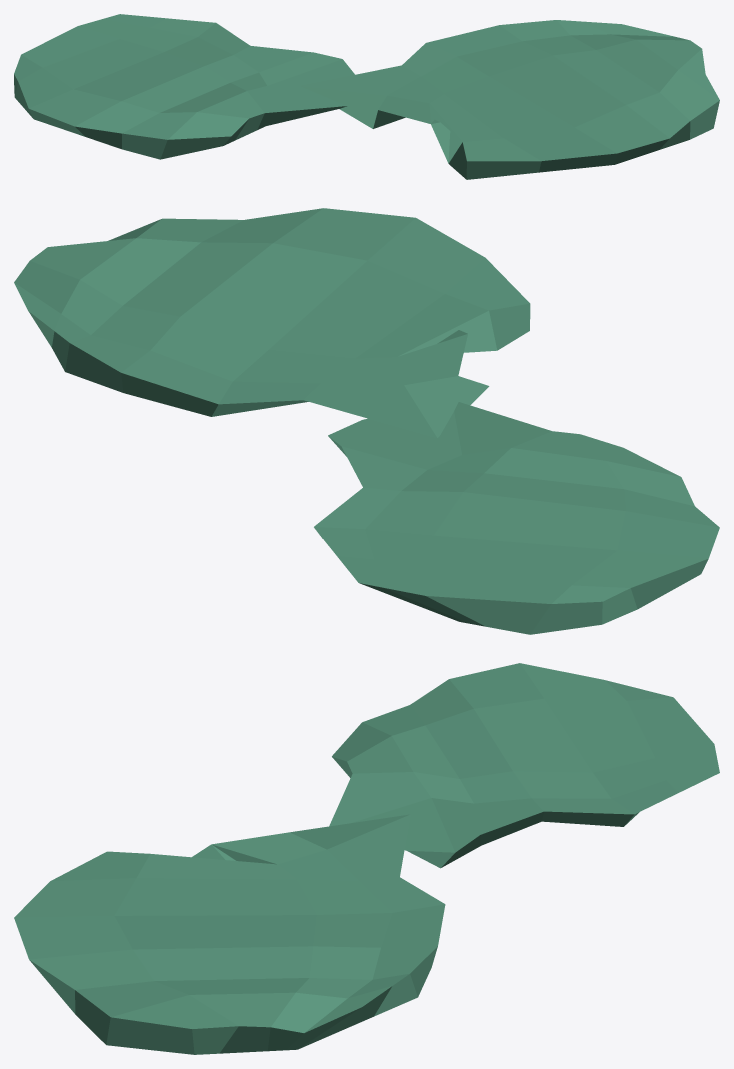
Rendered from aguaEstanquePeces.fbx.
The picture shows the model from 3 angles, top to bottom: view 1: azimuth 30°, elevation 25°; view 2: azimuth 150°, elevation 25°; view 3: azimuth 270°, elevation 25°; orthographic projection. The views are drawn at different scales.
Visible parts, largest first — view 1: estanque1.018, estanque2.018; view 2: estanque1.018, estanque2.018; view 3: estanque1.018, estanque2.018.
Boxes of the visible parts, box(x1,y1,x2,y2) form: estanque1.018: box(300, 20, 719, 179); estanque2.018: box(14, 14, 354, 159); estanque1.018: box(14, 208, 530, 438); estanque2.018: box(314, 402, 719, 634); estanque1.018: box(14, 814, 445, 1054); estanque2.018: box(329, 663, 719, 868).
Size of the model in its own units: 40.4 by 2.55 by 33.17.
